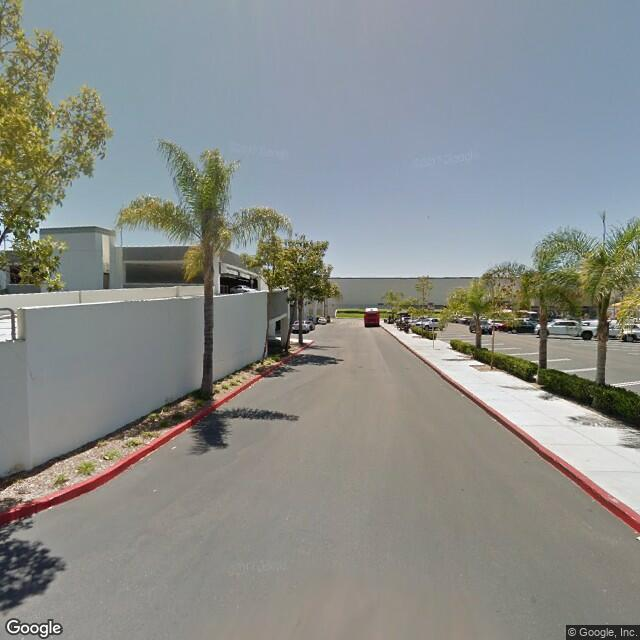litter: (457, 392, 469, 399), (169, 442, 177, 451), (249, 382, 256, 390), (101, 453, 110, 459), (491, 417, 499, 423), (635, 534, 640, 542)
